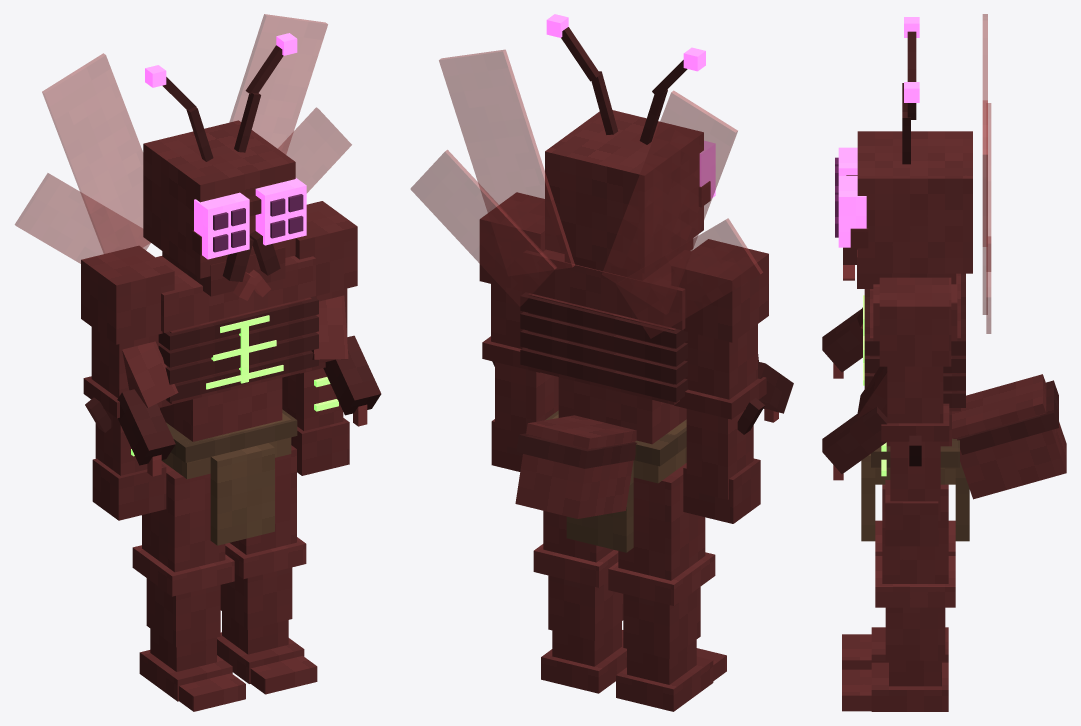
The model's file is insectoid_base_v2_evo1.glb.
3 views of the same model, side by side, from view 1: azimuth 30°, elevation 25°; view 2: azimuth 150°, elevation 25°; view 3: azimuth 270°, elevation 25° (orthographic). The views are drawn at different scales.
Visible parts, largest first — view 1: Torso, Head, LegR, ArmR, LegL, ArmL; view 2: Torso, Head, ArmR, LegR, ArmL, LegL; view 3: Torso, Head, ArmL, LegL, LegR.
Part boxes in pixels (<box>): Torso: <box>15,14,381,545</box>; Head: <box>143,33,306,300</box>; LegR: <box>132,461,245,711</box>; ArmR: <box>81,245,174,520</box>; LegL: <box>217,445,317,694</box>; ArmL: <box>282,201,357,475</box>; Torso: <box>410,49,793,552</box>; Head: <box>545,14,715,280</box>; ArmR: <box>671,239,768,523</box>; LegR: <box>608,463,726,711</box>; ArmL: <box>479,192,558,471</box>; LegL: <box>533,511,626,693</box>; Torso: <box>822,14,1066,541</box>; Head: <box>835,17,972,288</box>; ArmL: <box>879,277,951,546</box>; LegL: <box>842,484,955,711</box>; LegR: <box>842,520,955,669</box>.
Size of the model in its own units: 1.12 by 1.98 by 0.699.
23 materials, 23 textured.
